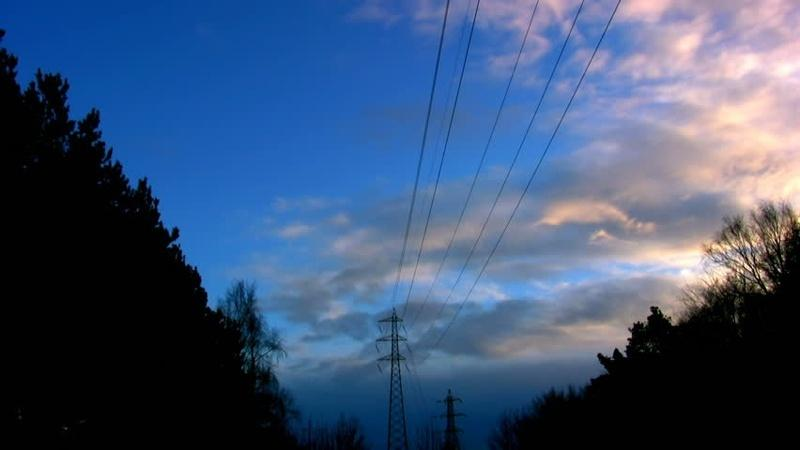power_tower: (367, 302, 422, 442), (430, 387, 469, 443)
